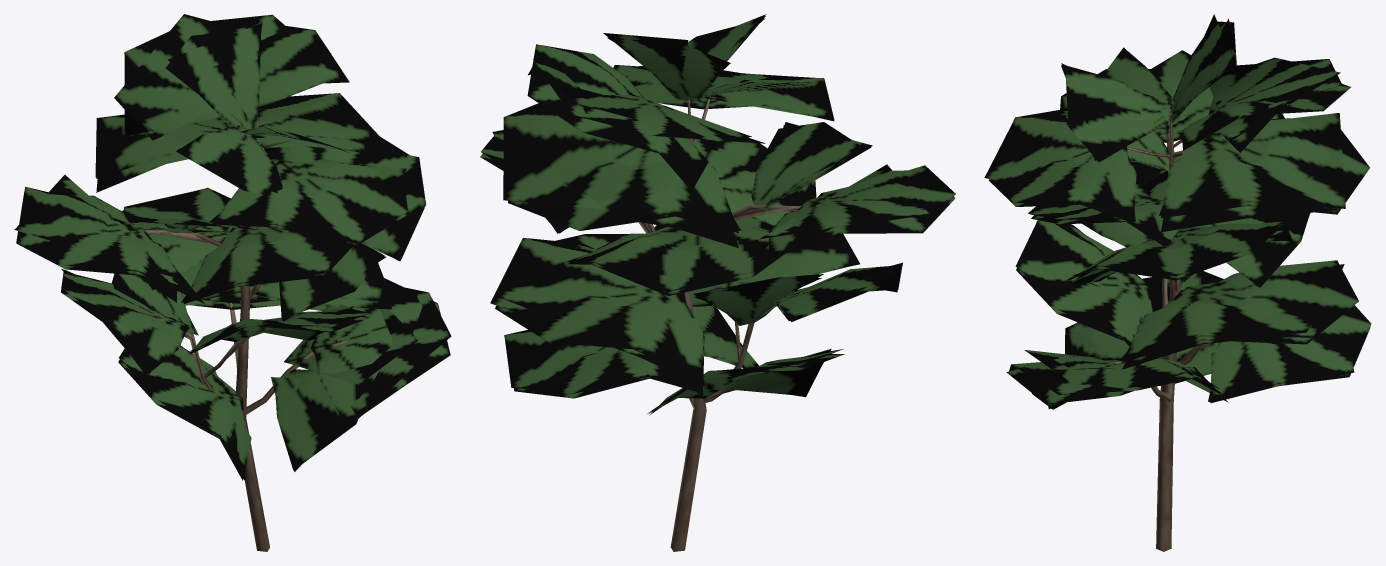
Rendered from plants_un_plant03_green.gltf.
3 views of the same model, side by side, from view 1: azimuth 30°, elevation 25°; view 2: azimuth 150°, elevation 25°; view 3: azimuth 270°, elevation 25° (orthographic). The views are drawn at different scales.
Parts seen in each view (by area): view 1: um_plants_un_plant03_green_model_lod0Shape:plants_un_plant03 (×2), um_plants_un_plant03_green_model_lod1Shape:plants_un_plant03 (×2), um_plants_un_plant03_green_model_lod2Shape:plants_un_plant03 (×2); view 2: um_plants_un_plant03_green_model_lod0Shape:plants_un_plant03 (×2), um_plants_un_plant03_green_model_lod2Shape:plants_un_plant03 (×2), um_plants_un_plant03_green_model_lod1Shape:plants_un_plant03 (×2); view 3: um_plants_un_plant03_green_model_lod0Shape:plants_un_plant03 (×2), um_plants_un_plant03_green_model_lod1Shape:plants_un_plant03, um_plants_un_plant03_green_model_lod2Shape:plants_un_plant03 (×2).
Part boxes in pixels (<box>): um_plants_un_plant03_green_model_lod0Shape:plants_un_plant03 (×2): <box>16,26,450,551</box>; um_plants_un_plant03_green_model_lod1Shape:plants_un_plant03 (×2): <box>16,14,451,480</box>; um_plants_un_plant03_green_model_lod2Shape:plants_un_plant03 (×2): <box>14,14,424,551</box>; um_plants_un_plant03_green_model_lod0Shape:plants_un_plant03 (×2): <box>480,18,955,551</box>; um_plants_un_plant03_green_model_lod2Shape:plants_un_plant03 (×2): <box>490,16,929,551</box>; um_plants_un_plant03_green_model_lod1Shape:plants_un_plant03 (×2): <box>481,14,955,413</box>; um_plants_un_plant03_green_model_lod0Shape:plants_un_plant03 (×2): <box>989,21,1370,551</box>; um_plants_un_plant03_green_model_lod1Shape:plants_un_plant03: <box>990,14,1371,408</box>; um_plants_un_plant03_green_model_lod2Shape:plants_un_plant03 (×2): <box>984,18,1354,548</box>.
Bounding box in the file's own units: 1.2 × 1.42 × 0.9803.
2 materials, 2 textured.
